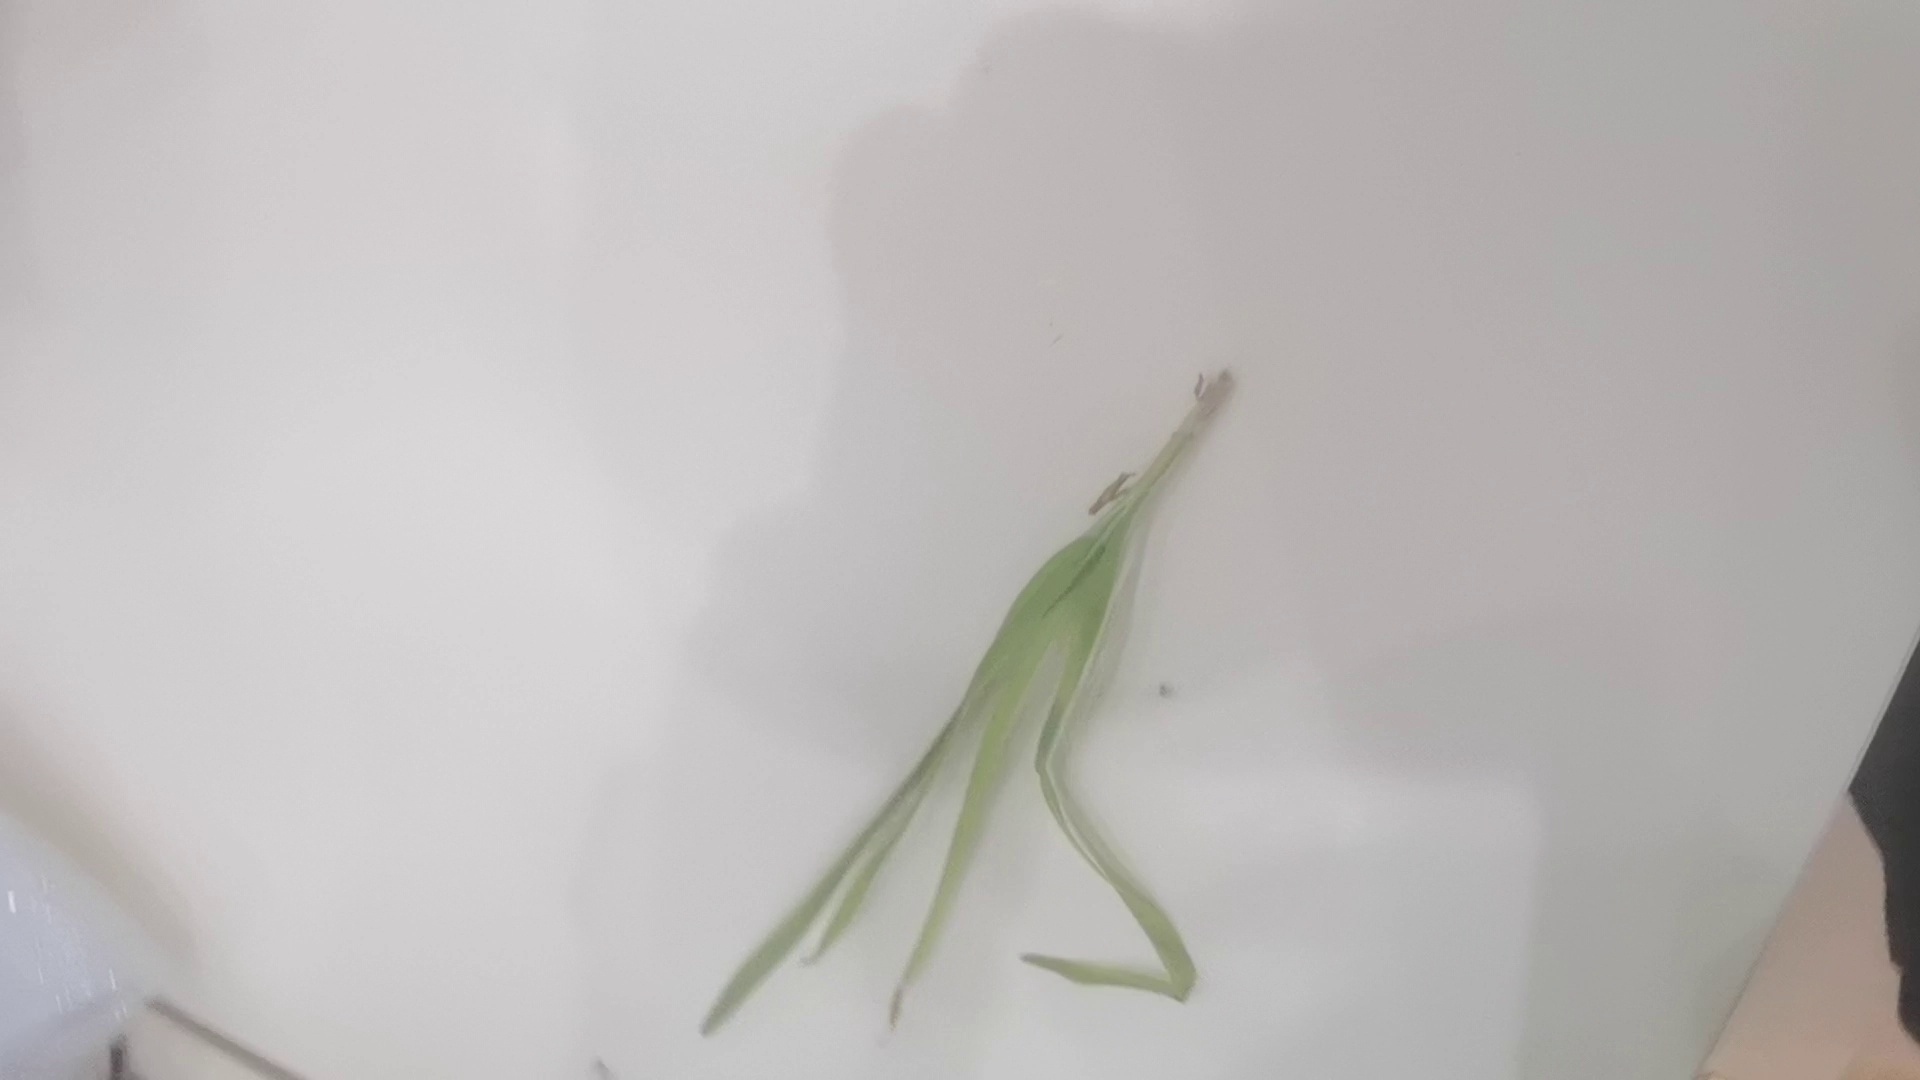chives: (698, 373, 1222, 1019)
